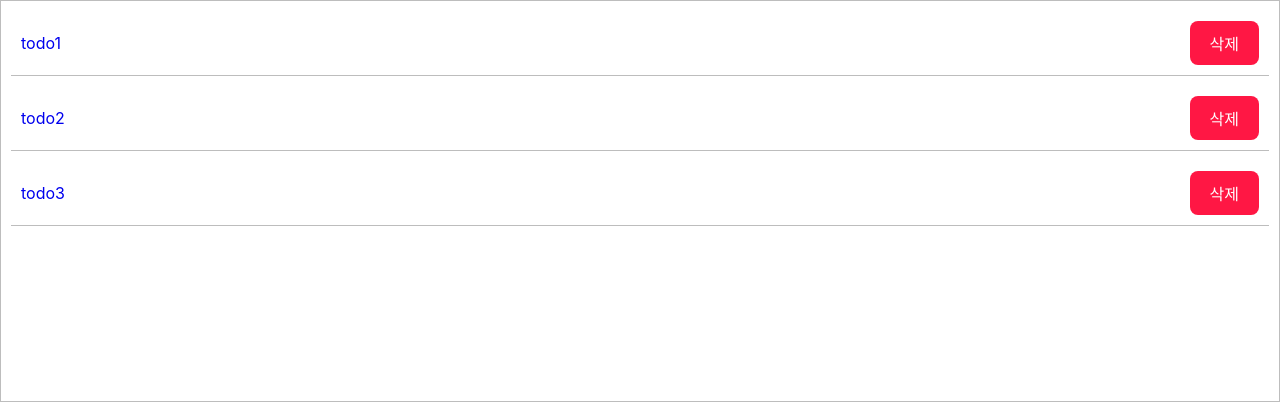
Test: <TodoList /> › delete todo
Check: the link "todo2" is shown, box [21,108,65,128]
What coordinates should you click on to do the following:
click the element showing "삭제" in the row of "todo2"
I would click on:
 (1224, 118)
Its box is [1190,96,1259,140].
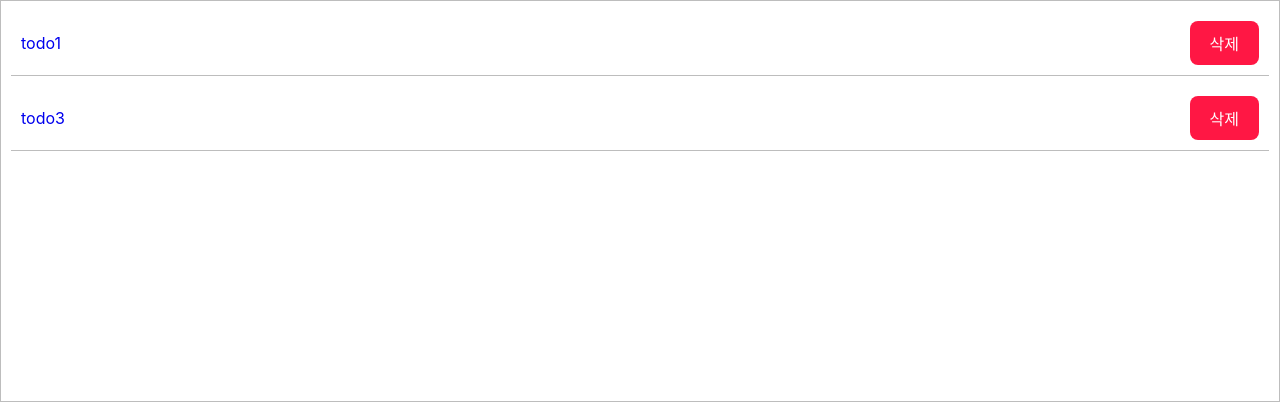
Check: the link "todo2" is gone
Check: the link "todo2" no longer shows "todo2"
